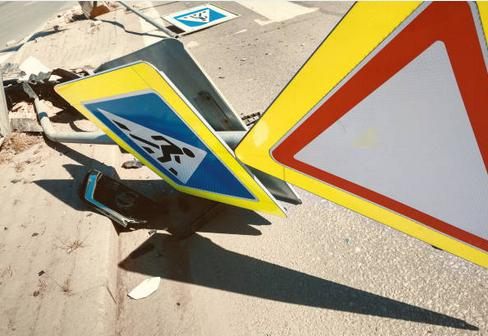obstructed_road_sign: (237, 2, 487, 267), (56, 61, 285, 216)
road_sign: (163, 5, 237, 33)
